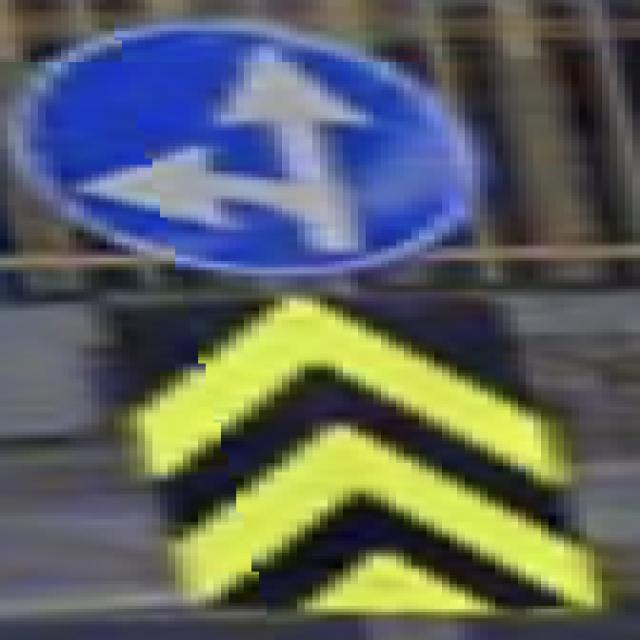Straight or Left: (9, 21, 496, 273)
